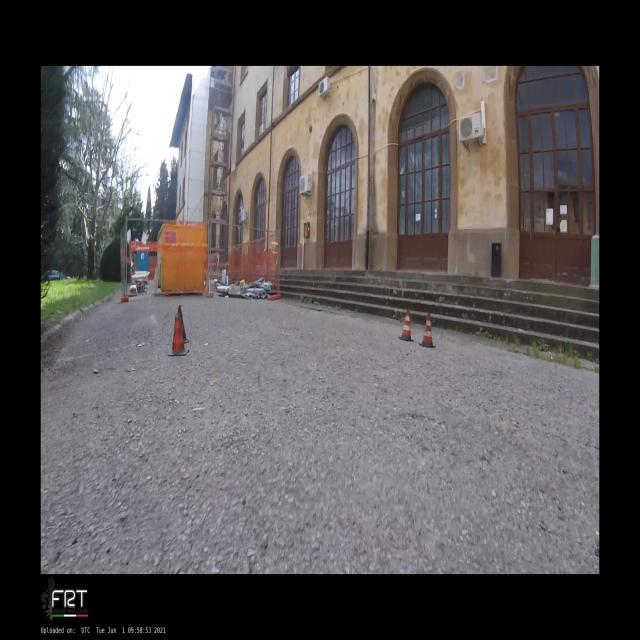large_orange_cone: (419, 312, 436, 348), (398, 309, 414, 342)
unknown_cone: (168, 314, 190, 356), (178, 304, 189, 342)
